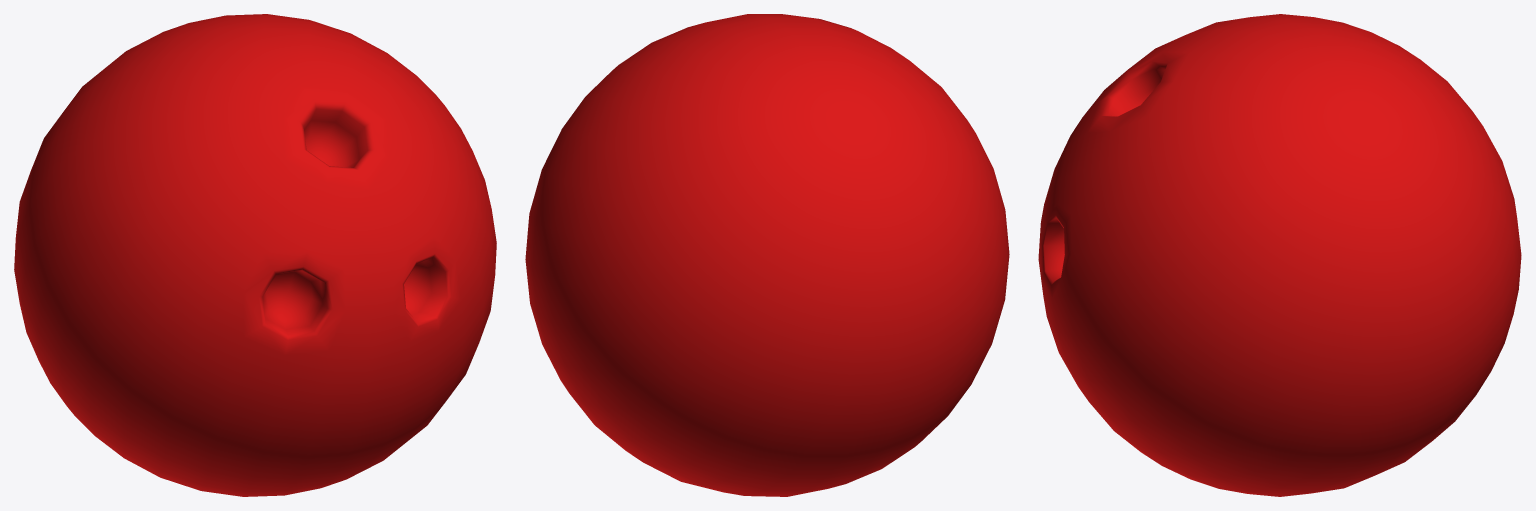
Rendered from bowlingBall18.obj.
3 views of the same model, side by side, from view 1: azimuth 30°, elevation 25°; view 2: azimuth 150°, elevation 25°; view 3: azimuth 270°, elevation 25° (orthographic).
Parts seen in each view (by area): view 1: bowlingBall18; view 2: bowlingBall18; view 3: bowlingBall18.
Boxes of the visible parts, left/top/right/bottom form: bowlingBall18: left=14, top=14, right=496, bottom=496; bowlingBall18: left=525, top=14, right=1009, bottom=496; bowlingBall18: left=1038, top=14, right=1521, bottom=496.
Bounding box in the file's own units: 0.1729 × 0.1722 × 0.1729.
